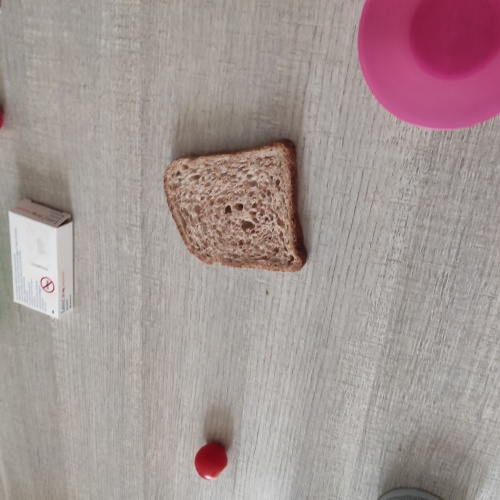pane: (160, 137, 321, 275)
pomodoro: (188, 435, 236, 488)
